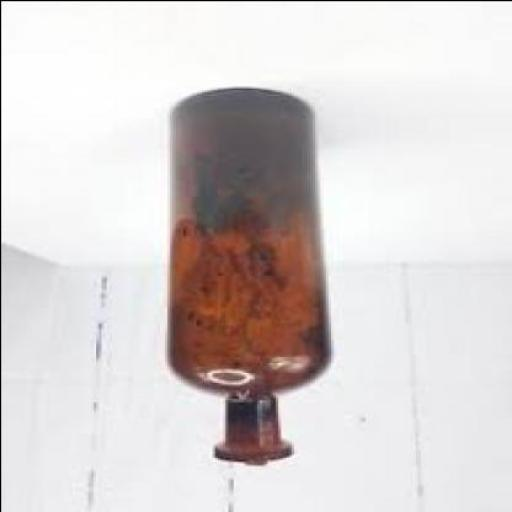glass: (169, 90, 332, 464)
